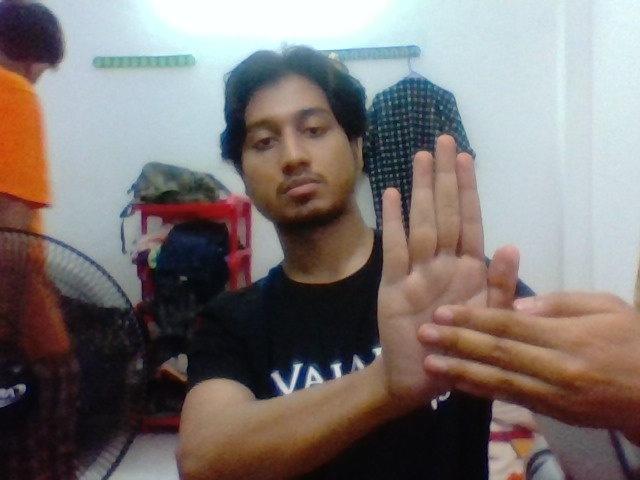H: (372, 130, 626, 441)
